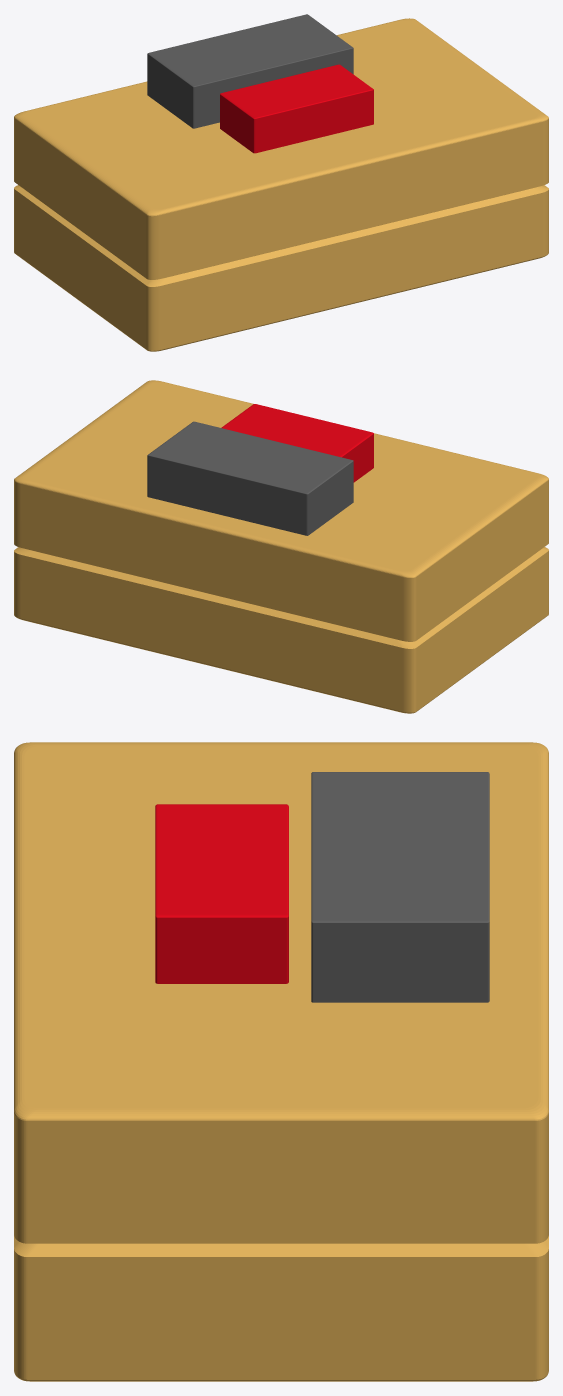
The picture shows the model from 3 angles, top to bottom: view 1: azimuth 30°, elevation 25°; view 2: azimuth 150°, elevation 25°; view 3: azimuth 270°, elevation 25°; orthographic projection. The views are drawn at different scales.
Parts seen in each view (by area): view 1: Cube, Cube.001, Cube.002; view 2: Cube, Cube.001, Cube.002; view 3: Cube, Cube.001, Cube.002.
Boxes of the visible parts, <box> form: Cube: <box>14,18,548,351</box>; Cube.001: <box>147,14,353,128</box>; Cube.002: <box>220,64,373,153</box>; Cube: <box>14,380,548,713</box>; Cube.001: <box>147,421,353,535</box>; Cube.002: <box>221,404,373,482</box>; Cube: <box>14,742,548,1381</box>; Cube.001: <box>311,772,489,1002</box>; Cube.002: <box>155,804,288,983</box>.
Bounding box in the file's own units: 150 × 65 × 90.
